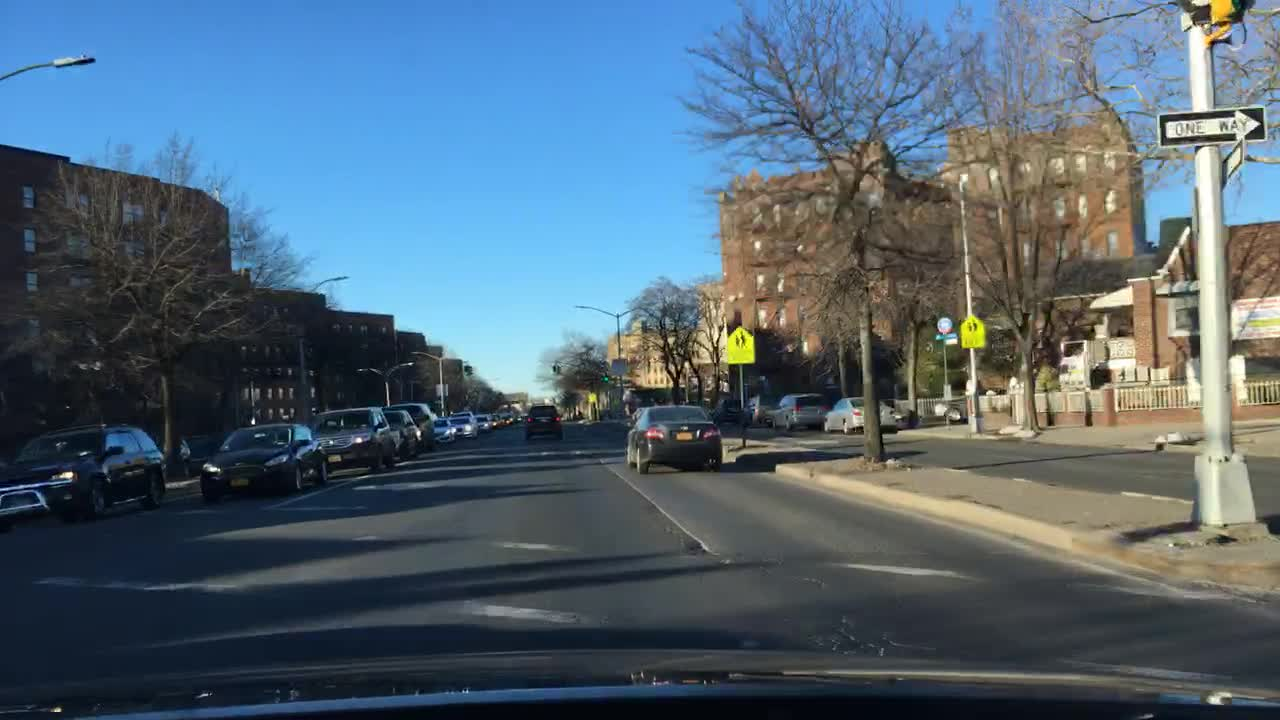car: (0, 422, 170, 531), (197, 423, 329, 499), (624, 404, 721, 472), (308, 405, 396, 470), (822, 390, 896, 436), (165, 428, 226, 480), (765, 392, 832, 432), (931, 386, 1004, 421), (381, 405, 423, 459), (390, 401, 436, 450), (742, 392, 782, 428), (524, 404, 564, 437), (714, 397, 745, 424), (450, 416, 478, 439), (432, 415, 455, 443), (475, 412, 490, 431), (486, 411, 500, 427), (501, 409, 513, 426), (451, 409, 475, 417), (512, 412, 522, 424), (522, 411, 527, 423)
person: (179, 439, 190, 478)
traffic light: (1208, 2, 1244, 25), (556, 364, 564, 375), (599, 375, 610, 382), (550, 362, 557, 373), (468, 364, 475, 375), (463, 364, 468, 375)
traffic sign: (1155, 109, 1265, 146), (722, 326, 755, 363), (961, 311, 986, 348), (434, 381, 449, 397), (940, 317, 953, 333), (935, 332, 955, 341), (588, 390, 596, 401)
